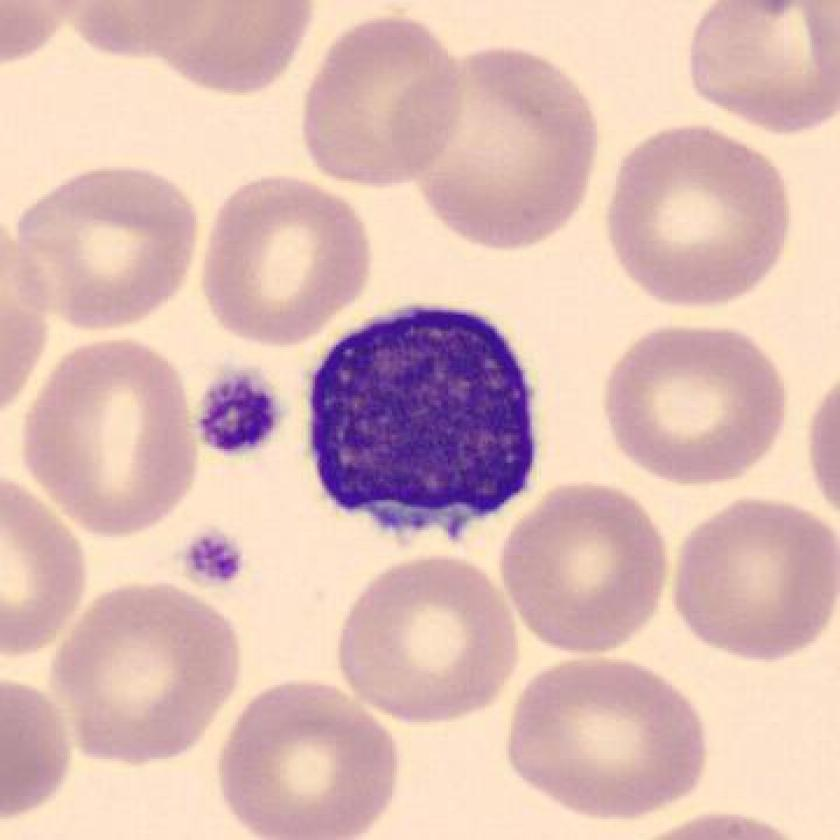lymphocyte: (295, 290, 554, 566)
